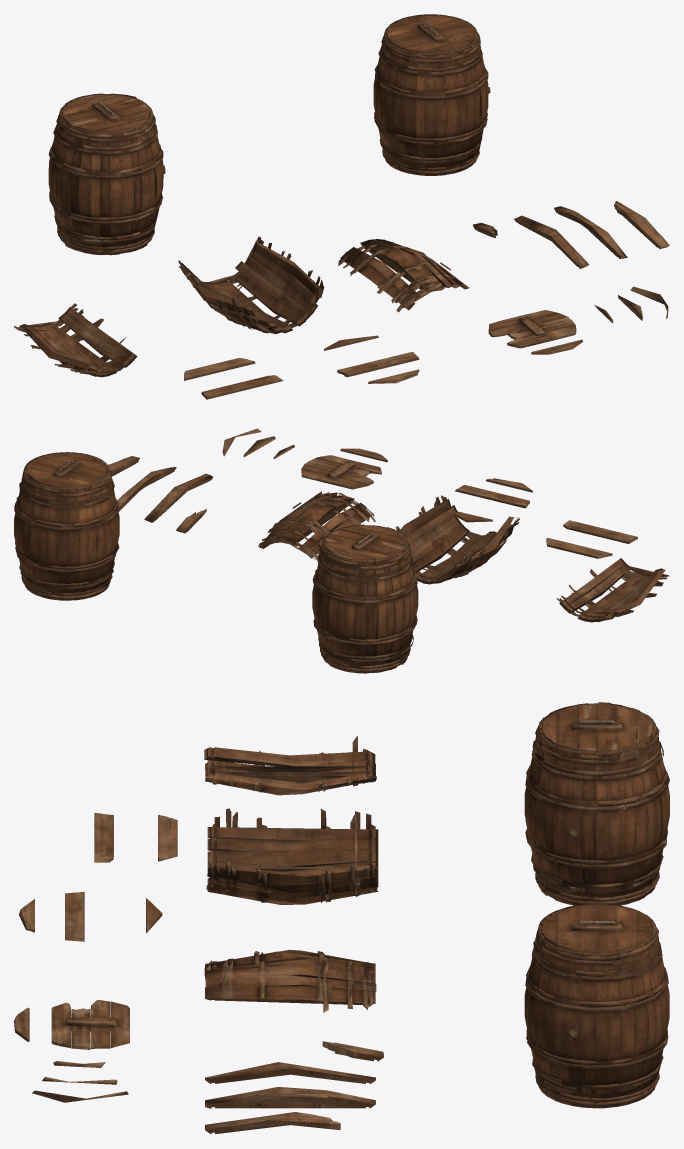
The model's file is wooden_barrels_01.glb.
3 renders of one model, top to bottom at view 1: azimuth 30°, elevation 25°; view 2: azimuth 150°, elevation 25°; view 3: azimuth 270°, elevation 25°, orthographic. The views are drawn at different scales.
Visible parts, largest first — view 1: wooden_barrels_01_piece01, wooden_barrels_01_barrel01, wooden_barrels_01_barrel02; view 2: wooden_barrels_01_piece01, wooden_barrels_01_barrel02, wooden_barrels_01_barrel01; view 3: wooden_barrels_01_piece01, wooden_barrels_01_barrel01, wooden_barrels_01_barrel02.
Part boxes in pixels (bbox=[...]): wooden_barrels_01_piece01: bbox=[14, 201, 669, 399]; wooden_barrels_01_barrel01: bbox=[373, 14, 490, 175]; wooden_barrels_01_barrel02: bbox=[48, 93, 165, 255]; wooden_barrels_01_piece01: bbox=[108, 428, 669, 622]; wooden_barrels_01_barrel02: bbox=[312, 524, 418, 673]; wooden_barrels_01_barrel01: bbox=[14, 452, 119, 600]; wooden_barrels_01_piece01: bbox=[14, 736, 383, 1134]; wooden_barrels_01_barrel01: bbox=[524, 903, 669, 1108]; wooden_barrels_01_barrel02: bbox=[524, 702, 669, 905].
Size of the model in its own units: 4.44 by 0.953 by 3.34.
3 materials, 3 textured.
